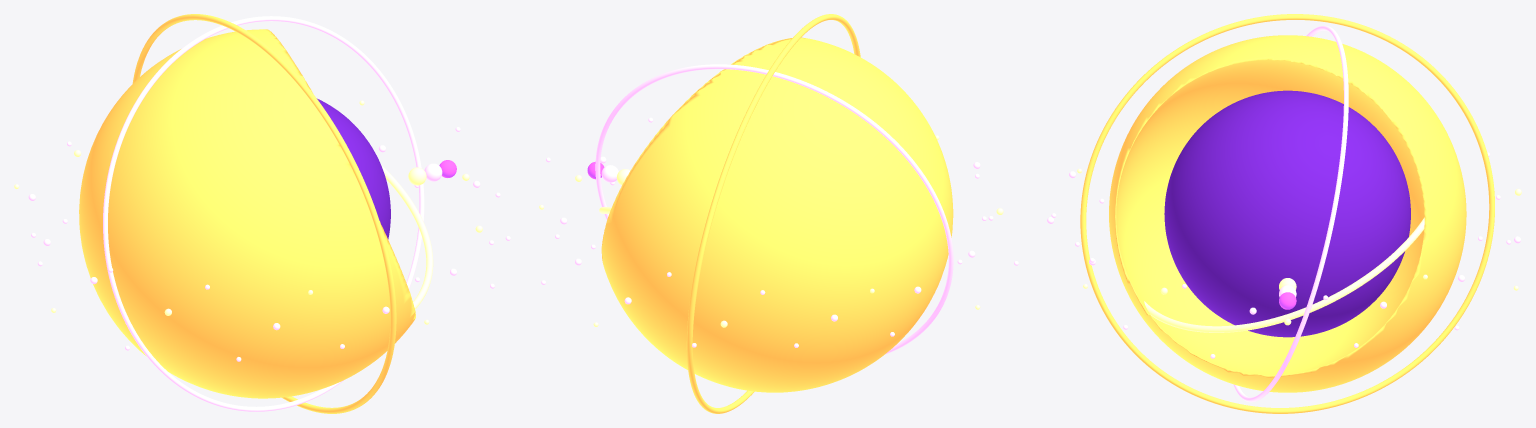
Rendered from StrategyAssistant_RoyalOrb_V3.glb.
The picture shows the model from 3 angles, left to right: view 1: azimuth 30°, elevation 25°; view 2: azimuth 150°, elevation 25°; view 3: azimuth 270°, elevation 25°; orthographic projection. The views are drawn at different scales.
Visible parts, largest first — view 1: 05 - Solid Royal Gold Crescent, 07 - Violet Diagonal Ring, 08 - Royal Polar Ring, 02 - Violet Crystal Shell, 06 - Gold Equatorial Ring; view 2: 05 - Solid Royal Gold Crescent, 07 - Violet Diagonal Ring, 08 - Royal Polar Ring; view 3: 05 - Solid Royal Gold Crescent, 02 - Violet Crystal Shell, 08 - Royal Polar Ring, 07 - Violet Diagonal Ring, 06 - Gold Equatorial Ring.
Part boxes in pixels (x1,y1,x2,y2): 05 - Solid Royal Gold Crescent: [79, 29, 415, 398]; 07 - Violet Diagonal Ring: [103, 16, 424, 411]; 08 - Royal Polar Ring: [132, 14, 396, 413]; 02 - Violet Crystal Shell: [317, 98, 390, 239]; 06 - Gold Equatorial Ring: [381, 165, 433, 309]; 05 - Solid Royal Gold Crescent: [601, 37, 953, 392]; 07 - Violet Diagonal Ring: [595, 64, 953, 354]; 08 - Royal Polar Ring: [686, 14, 860, 413]; 05 - Solid Royal Gold Crescent: [1109, 35, 1466, 392]; 02 - Violet Crystal Shell: [1164, 90, 1410, 337]; 08 - Royal Polar Ring: [1080, 14, 1494, 413]; 07 - Violet Diagonal Ring: [1233, 25, 1348, 402]; 06 - Gold Equatorial Ring: [1144, 217, 1424, 332].
Size of the model in its own units: 3.54 by 3.05 by 3.5.
